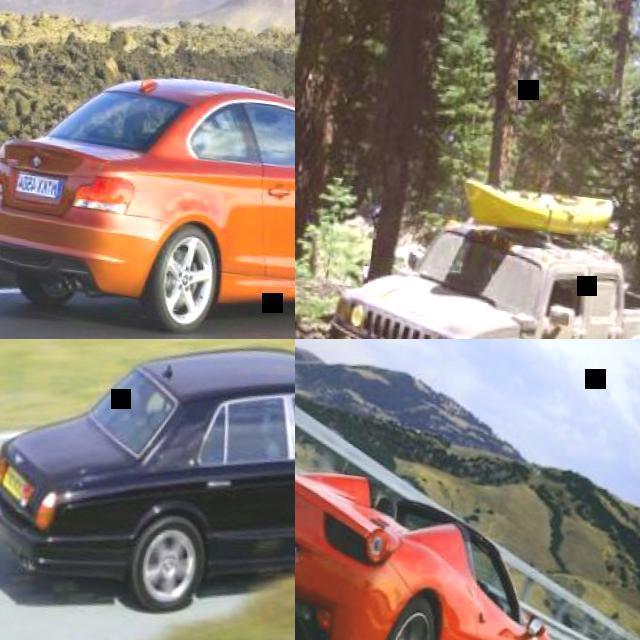car: (4, 349, 299, 612), (1, 75, 293, 339)
